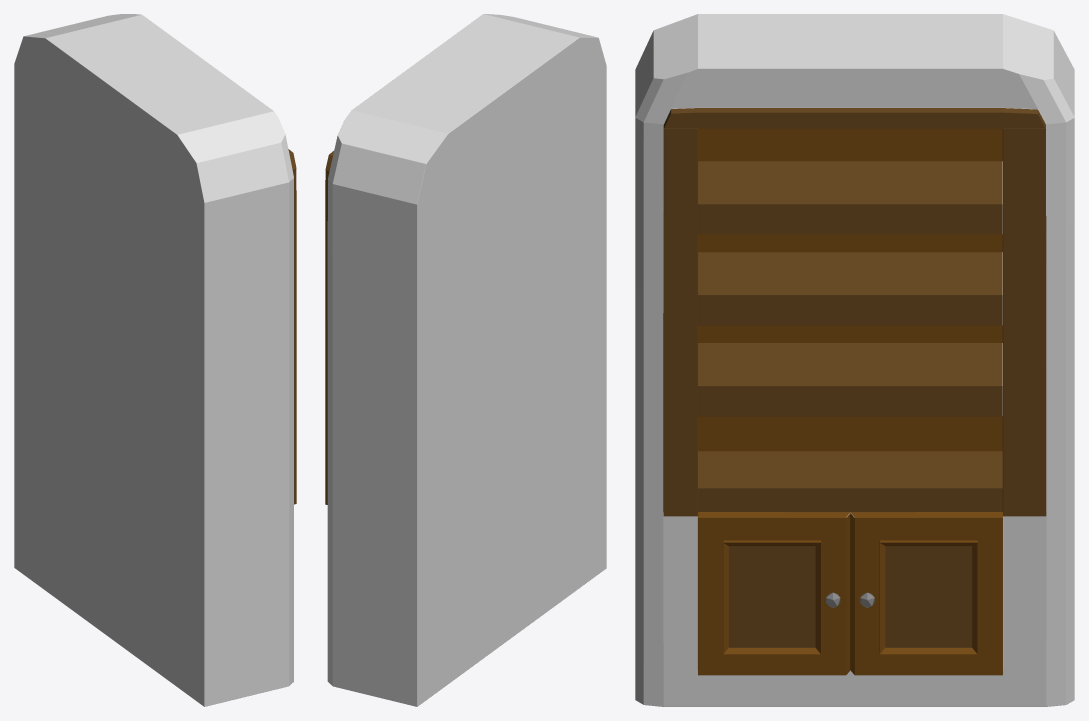
Rendered from Kitaplk.fbx.
3 renders of one model, left to right at view 1: azimuth 30°, elevation 25°; view 2: azimuth 150°, elevation 25°; view 3: azimuth 270°, elevation 25°, orthographic. The views are drawn at different scales.
Parts seen in each view (by area): view 1: kitaplık; view 2: kitaplık; view 3: kitaplık.
Boxes of the visible parts, x1=… form: kitaplık: x1=14, y1=14, x2=296, y2=706; kitaplık: x1=325, y1=14, x2=606, y2=706; kitaplık: x1=635, y1=14, x2=1074, y2=706.
Bounding box in the file's own units: 137 × 626 × 391.
